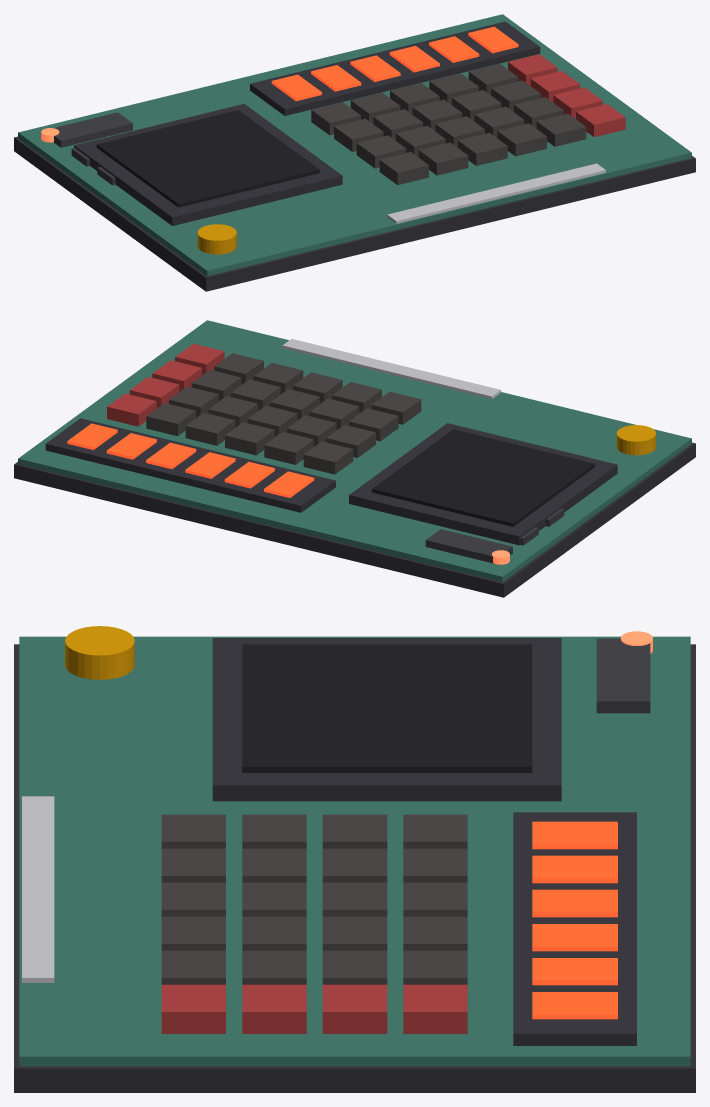
The picture shows the model from 3 angles, top to bottom: view 1: azimuth 30°, elevation 25°; view 2: azimuth 150°, elevation 25°; view 3: azimuth 270°, elevation 25°; orthographic projection. The views are drawn at different scales.
Visible parts, largest first — view 1: pcb, screen, pcb_rim, screen_bezel, led_panel, edge_connector, ic_0, key_3_0, key_3_1, key_3_4, key_3_3, key_3_5 (+26 smaller); view 2: pcb, screen, pcb_rim, screen_bezel, led_panel, edge_connector, ic_0, key_0_0, key_0_3, key_0_2, key_0_4, key_0_5 (+26 smaller); view 3: pcb, screen, pcb_rim, screen_bezel, led_panel, edge_connector, ic_0, knob_reset, key_1_5, key_0_5, key_2_5, key_3_5 (+26 smaller).
Boxes of the visible parts, <box> form: pcb: <box>18,14,691,276</box>; screen: <box>96,110,319,207</box>; pcb_rim: <box>14,136,695,291</box>; screen_bezel: <box>74,104,342,225</box>; led_panel: <box>250,21,540,115</box>; edge_connector: <box>387,163,605,223</box>; ic_0: <box>53,112,132,147</box>; key_3_0: <box>379,152,428,184</box>; key_3_1: <box>418,142,468,175</box>; key_3_4: <box>536,113,586,146</box>; key_3_3: <box>497,123,546,156</box>; key_3_5: <box>576,104,625,137</box>; pcb: <box>18,320,691,582</box>; screen: <box>372,429,594,526</box>; pcb_rim: <box>14,442,695,597</box>; screen_bezel: <box>349,423,617,545</box>; led_panel: <box>45,418,335,512</box>; edge_connector: <box>282,339,501,399</box>; ic_0: <box>425,529,512,563</box>; key_0_0: <box>303,441,353,474</box>; key_0_3: <box>185,412,235,445</box>; key_0_2: <box>225,422,274,455</box>; key_0_4: <box>146,403,195,436</box>; key_0_5: <box>107,393,156,426</box>; pcb: <box>19,636,690,1066</box>; screen: <box>242,644,532,772</box>; pcb_rim: <box>14,644,695,1092</box>; screen_bezel: <box>212,638,561,801</box>; led_panel: <box>513,812,636,1045</box>; edge_connector: <box>22,796,54,982</box>; ic_0: <box>596,638,650,713</box>; knob_reset: <box>65,626,134,679</box>; key_1_5: <box>322,984,387,1033</box>; key_0_5: <box>403,984,467,1033</box>; key_2_5: <box>242,984,306,1033</box>; key_3_5: <box>161,984,225,1033</box>.
Bounding box in the file's own units: 3.74 × 0.24 × 2.54.
